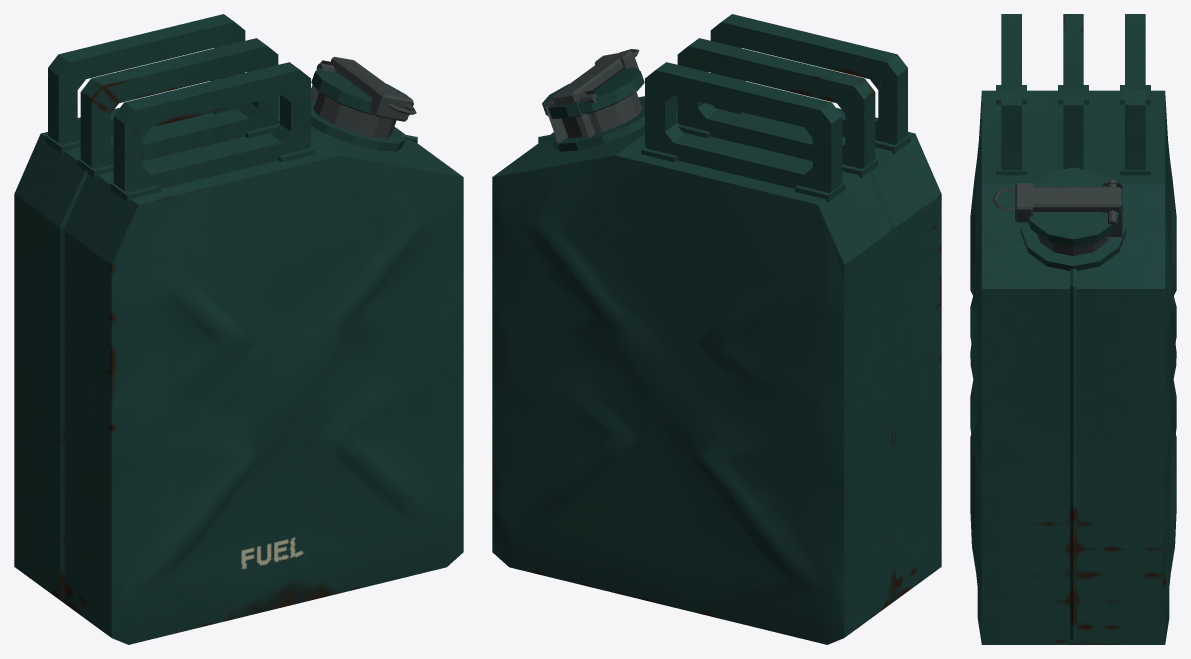
The model's file is fuel_jerrycan.glb.
3 renders of one model, left to right at view 1: azimuth 30°, elevation 25°; view 2: azimuth 150°, elevation 25°; view 3: azimuth 270°, elevation 25°, orthographic. The views are drawn at different scales.
Parts seen in each view (by area): view 1: FuelJerrycanMesh; view 2: FuelJerrycanMesh; view 3: FuelJerrycanMesh.
Boxes of the visible parts, x1=… form: FuelJerrycanMesh: x1=14, y1=14, x2=463, y2=644; FuelJerrycanMesh: x1=492, y1=14, x2=941, y2=644; FuelJerrycanMesh: x1=970, y1=14, x2=1176, y2=644.
Size of what is drawn, in the model's own units: 0.3394 by 0.474 by 0.18.
1 material, 1 textured.
